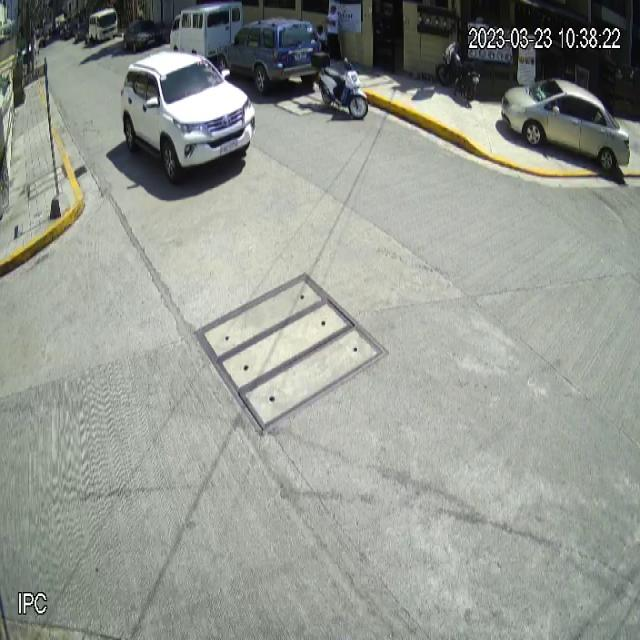Car: (120, 48, 254, 194), (500, 76, 632, 175), (216, 17, 322, 98)
Motorcycle: (311, 49, 371, 125)
Van: (169, 2, 244, 68)
